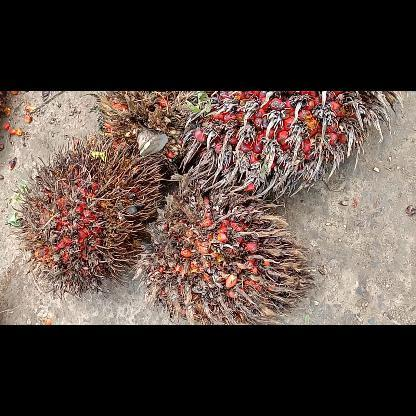Terlalu masak: (9, 132, 171, 298), (133, 184, 319, 324), (177, 91, 407, 199), (95, 91, 214, 173)
